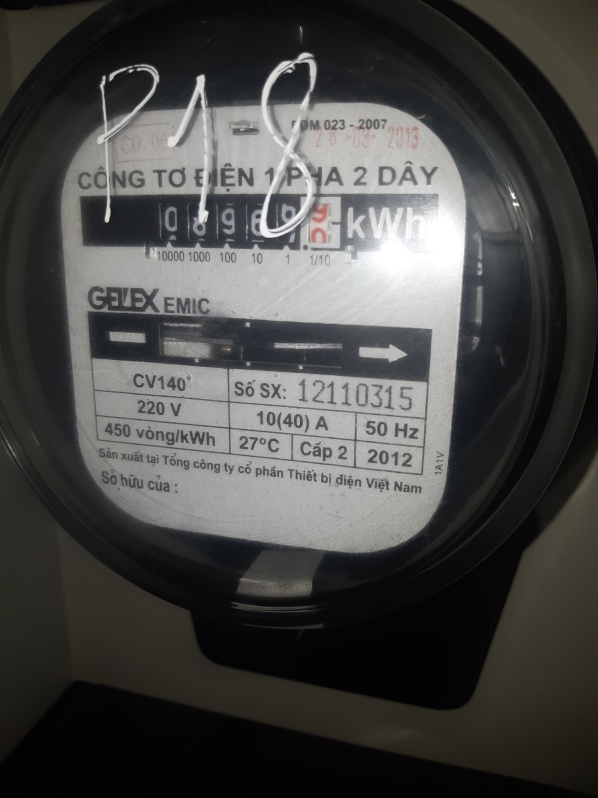counter: (78, 192, 444, 249)
electricity_meter: (6, 16, 579, 598)
